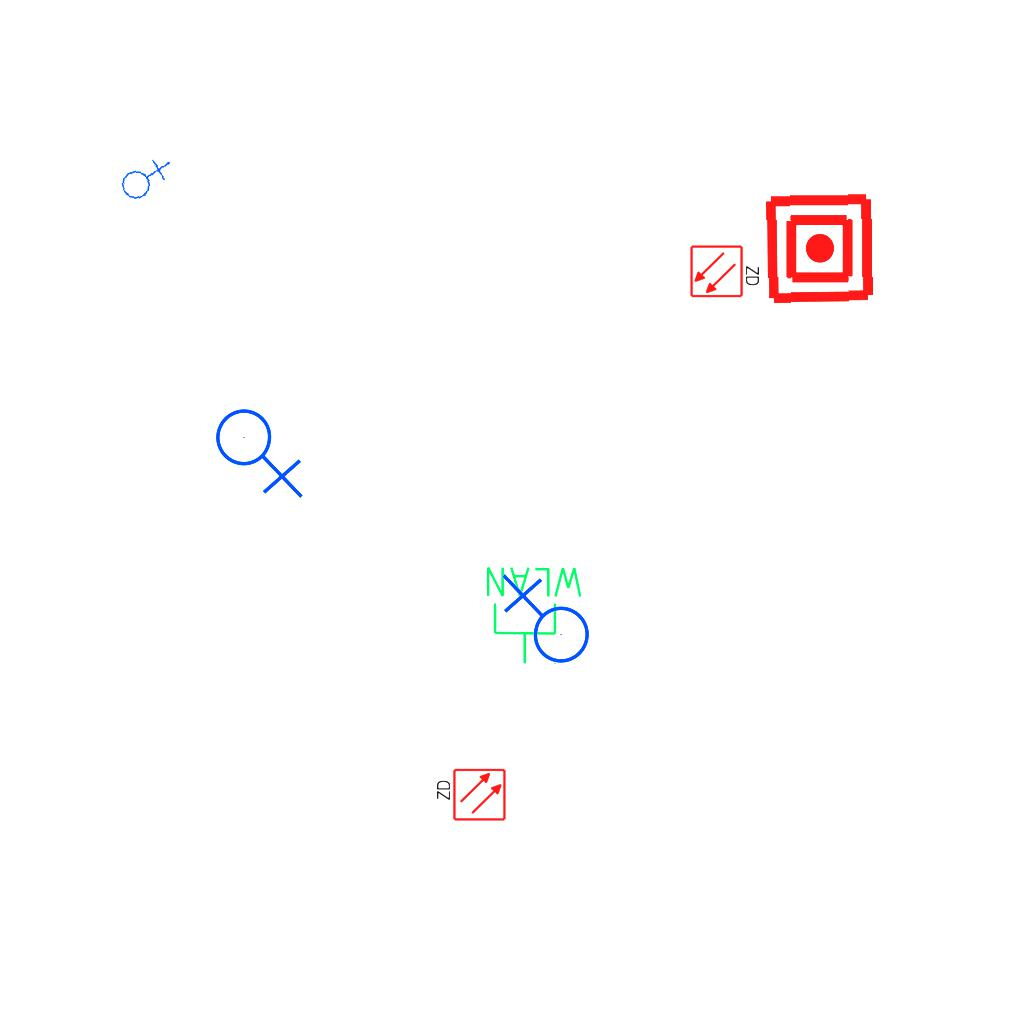Elektroanschluss_allgemein_230V_Geraeteanschlussdose_230V: (214, 400, 308, 499), (497, 573, 591, 672), (114, 149, 173, 206)
NAM-Nichtautomatischer_Melder: (762, 191, 877, 306)
WLAN: (482, 563, 587, 667)
ZD_Melder_in_Zwischendecke_mit_Revisionsoeffnung_mind_40_x_40_cm: (689, 242, 763, 299), (433, 767, 507, 824)
